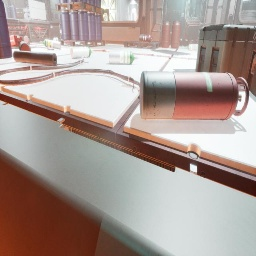0: (109, 51, 139, 64), (70, 47, 94, 58), (40, 39, 61, 50), (186, 44, 198, 50), (53, 38, 59, 42)
FireExtinguisher ]: (142, 54, 154, 56), (103, 40, 108, 44), (64, 41, 70, 44), (29, 44, 36, 46), (65, 42, 65, 42)
FirstAidBox ,: (9, 35, 23, 47), (34, 19, 40, 20)
NitrogenTank ,: (140, 71, 249, 120), (139, 34, 153, 43), (19, 41, 31, 51), (24, 36, 30, 45)
